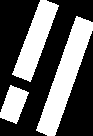parkingspot: (36, 16, 93, 136), (12, 0, 58, 81), (0, 85, 28, 123)
